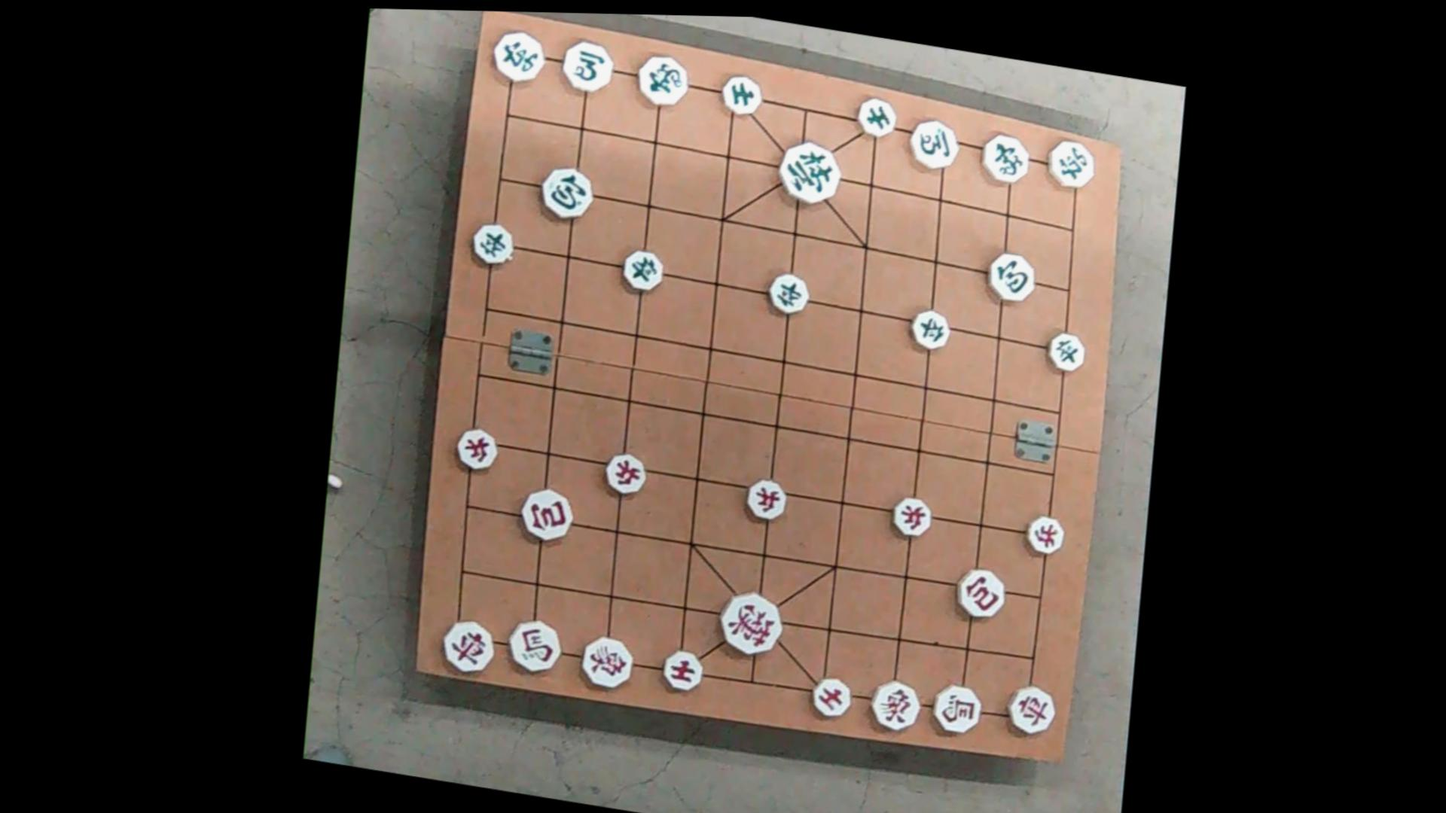cha_green: (489, 27, 546, 87), (1045, 136, 1097, 191)
cha_red: (438, 614, 494, 678), (1005, 683, 1057, 742)
jol_green: (905, 304, 953, 355), (468, 218, 514, 268), (618, 245, 663, 294), (765, 274, 810, 323), (1045, 330, 1085, 376)
jol_red: (887, 493, 935, 544), (600, 447, 647, 498), (744, 477, 787, 525), (457, 425, 499, 474), (1026, 511, 1066, 559)
ma_green: (905, 116, 961, 175), (560, 38, 615, 96)
ma_red: (500, 615, 567, 678), (927, 680, 981, 737)
po_green: (535, 161, 596, 227), (983, 247, 1041, 305)
po_red: (518, 488, 572, 547), (955, 564, 1007, 622)
sa_green: (851, 93, 898, 142), (718, 74, 761, 119)
sa_red: (658, 643, 708, 698), (807, 671, 856, 720)
sang_green: (630, 50, 693, 113), (978, 131, 1030, 187)
sang_red: (576, 632, 631, 693), (867, 677, 921, 736)
wang_green: (774, 139, 849, 211)
wang_red: (717, 591, 784, 662)
